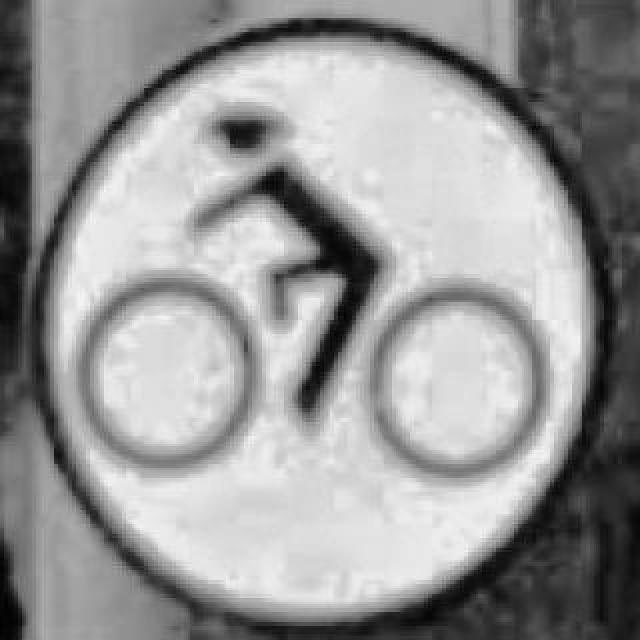bike lane: (22, 10, 618, 632)
